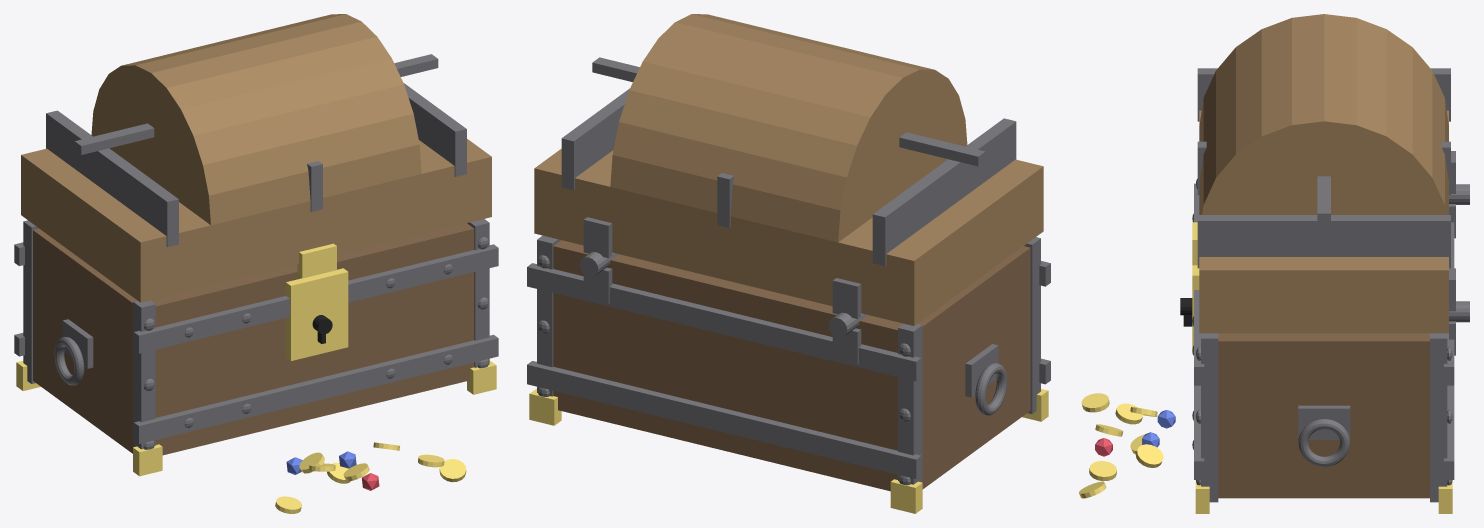
The picture shows the model from 3 angles, left to right: view 1: azimuth 30°, elevation 25°; view 2: azimuth 150°, elevation 25°; view 3: azimuth 270°, elevation 25°; orthographic projection. The views are drawn at different scales.
Parts seen in each view (by area): view 1: LidRound, ChestBase, LidBox, FrontBand0, FrontBand1, LidSideBand_-0.5, LockPlateNew, LidSideBand_0.5, CornerBand0, TopBandNew, CornerBand1, CornerBand2 (+6 smaller); view 2: ChestBase, LidRound, LidBox, BackBand0, BackBand1, LidSideBand_-0.5, LidSideBand_0.5, CornerBand1, TopBandNew, CornerBand0, CornerBand3, Handle_-1 (+8 smaller); view 3: LidRound, ChestBase, LidBox, LidSideBand_0.5, CornerBand2, CornerBand3, Handle_1, HandleMount_1, LidSideBand_-0.5, FrontBand1, BackBand0, FrontBand0 (+6 smaller).
Boxes of the visible parts, x1,y1,x2,y2 form: LidRound: (91, 14, 421, 225); ChestBase: (33, 223, 474, 455); LidBox: (21, 139, 491, 302); FrontBand0: (134, 334, 498, 443); FrontBand1: (134, 244, 498, 353); LidSideBand_-0.5: (46, 110, 178, 247); LockPlateNew: (286, 268, 348, 360); LidSideBand_0.5: (403, 83, 466, 176); CornerBand0: (133, 300, 155, 449); TopBandNew: (74, 54, 438, 154); CornerBand1: (23, 220, 38, 383); CornerBand2: (467, 219, 489, 367); ChestBase: (553, 240, 1030, 491); LidRound: (610, 14, 967, 242); LidBox: (534, 148, 1043, 325); BackBand0: (527, 361, 921, 478); BackBand1: (527, 263, 921, 381); LidSideBand_-0.5: (872, 118, 1016, 265); LidSideBand_0.5: (561, 88, 629, 190); CornerBand1: (898, 324, 922, 484); TopBandNew: (592, 57, 985, 166); CornerBand0: (1024, 237, 1040, 413); CornerBand3: (537, 235, 560, 396); Handle_-1: (975, 363, 1007, 415); LidRound: (1199, 14, 1448, 214); ChestBase: (1218, 333, 1429, 498); LidBox: (1199, 110, 1448, 333); LidSideBand_0.5: (1197, 215, 1450, 268); CornerBand2: (1201, 333, 1218, 502); CornerBand3: (1430, 333, 1447, 502); Handle_1: (1298, 419, 1350, 466); HandleMount_1: (1298, 405, 1350, 439); LidSideBand_-0.5: (1197, 68, 1450, 121); FrontBand1: (1194, 183, 1204, 385); BackBand0: (1444, 385, 1454, 479); FrontBand0: (1194, 385, 1204, 479).
Size of what is drawn, in the model's own units: 1.33 by 1.23 by 1.13.
